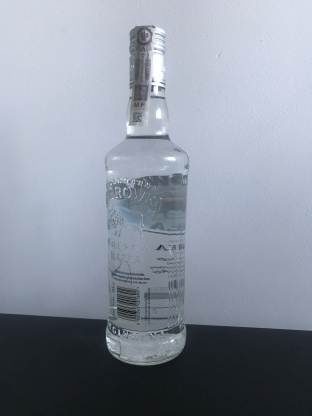nakretka: (126, 20, 168, 92)
